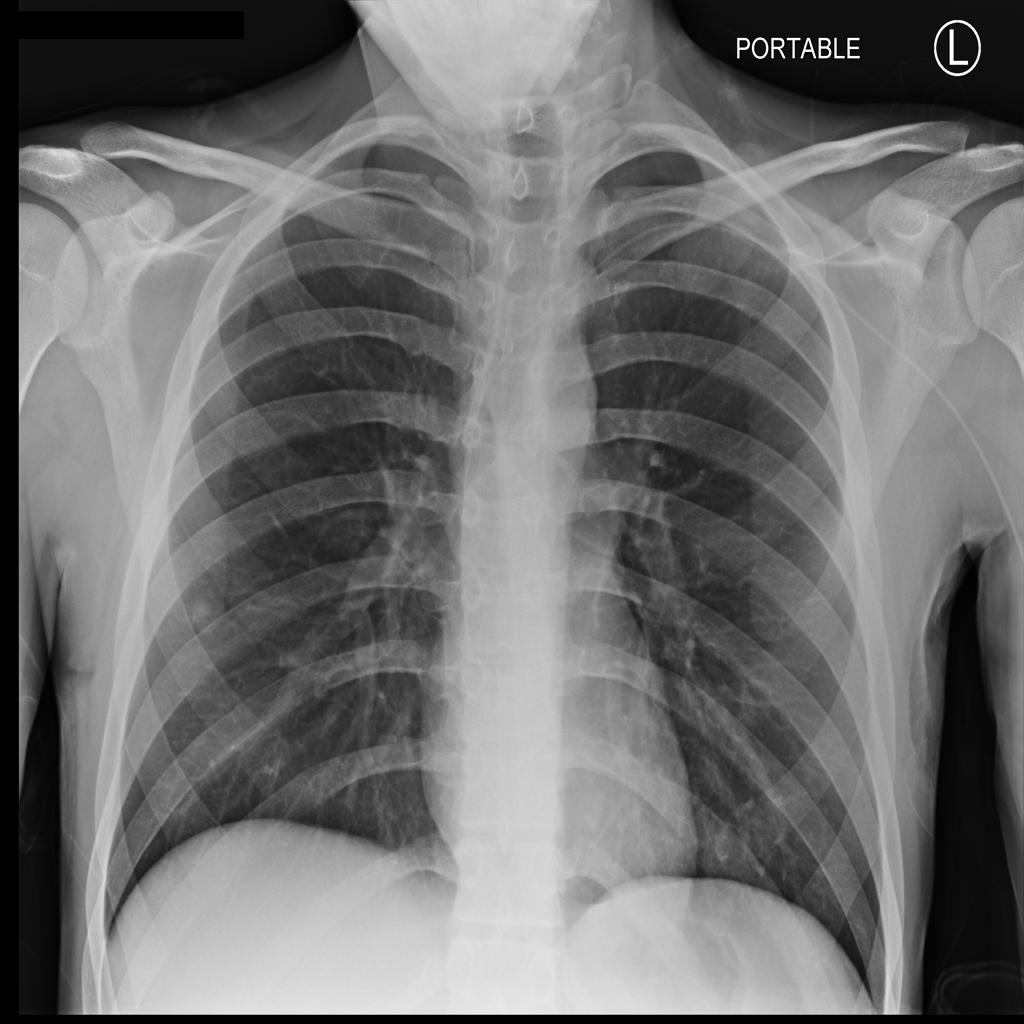nodule: (177, 585, 229, 636)
